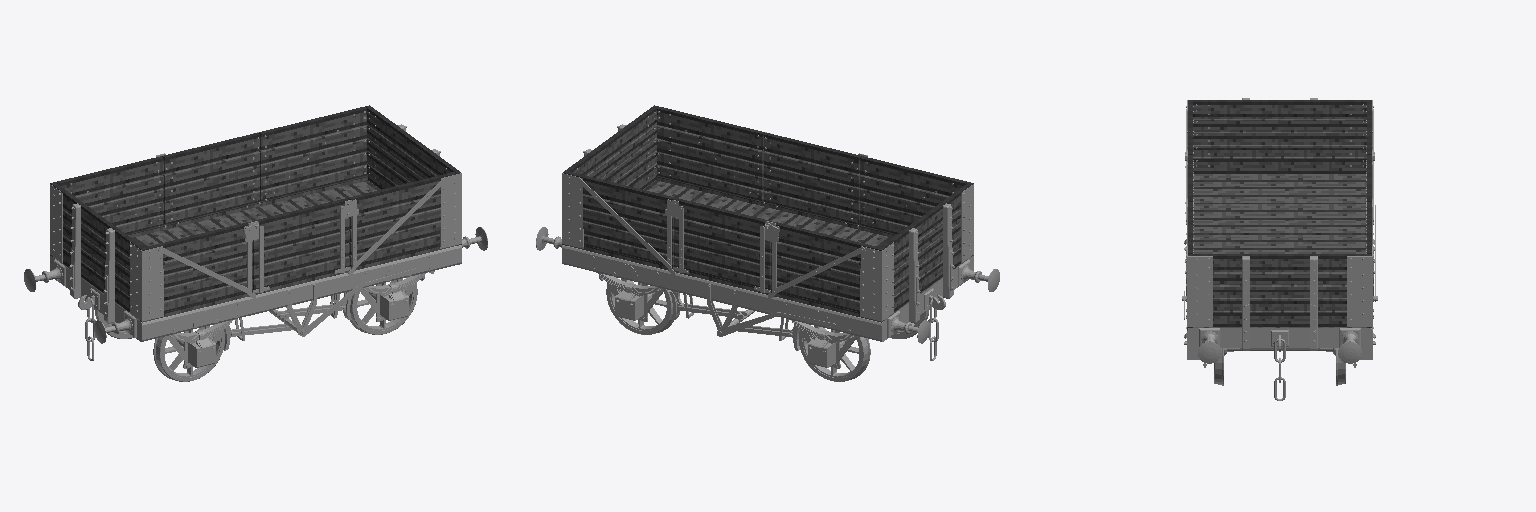
3 renders of one model, left to right at view 1: azimuth 30°, elevation 25°; view 2: azimuth 150°, elevation 25°; view 3: azimuth 270°, elevation 25°, orthographic.
Visible parts, largest first — view 1: SHELL_Cube.021, FRAME_Cube.024, FRAME_WHEEL_1_Cylinder.016, FRAME_WHEEL_2_Cylinder.002, SHELL.001_Cube.000; view 2: SHELL_Cube.021, FRAME_Cube.024, FRAME_WHEEL_1_Cylinder.016, FRAME_WHEEL_2_Cylinder.002, SHELL.001_Cube.000; view 3: SHELL_Cube.021, FRAME_Cube.024, FRAME_WHEEL_2_Cylinder.002.
Boxes of the visible parts, x1,y1,x2,y2 form: SHELL_Cube.021: [50, 105, 461, 323]; FRAME_Cube.024: [24, 180, 487, 368]; FRAME_WHEEL_1_Cylinder.016: [94, 308, 224, 381]; FRAME_WHEEL_2_Cylinder.002: [350, 277, 417, 334]; SHELL.001_Cube.000: [273, 114, 446, 268]; SHELL_Cube.021: [562, 105, 973, 323]; FRAME_Cube.024: [536, 180, 999, 368]; FRAME_WHEEL_1_Cylinder.016: [799, 308, 929, 381]; FRAME_WHEEL_2_Cylinder.002: [606, 277, 673, 334]; SHELL.001_Cube.000: [577, 114, 750, 268]; SHELL_Cube.021: [1185, 98, 1374, 350]; FRAME_Cube.024: [1182, 174, 1377, 400]; FRAME_WHEEL_2_Cylinder.002: [1214, 348, 1345, 385].
Bounding box in the file's own units: 5.79 × 2.29 × 2.55.
2 materials, 1 textured.